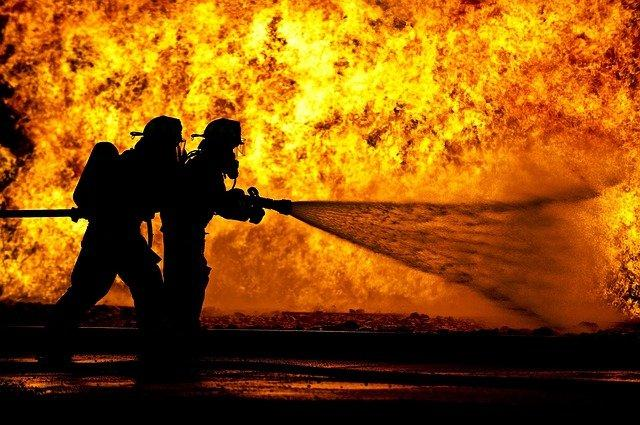fire: (247, 139, 597, 354), (53, 12, 612, 127)
